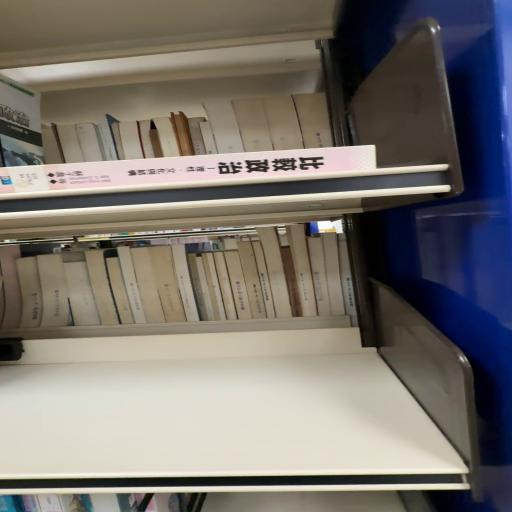flat: (1, 146, 376, 198)
